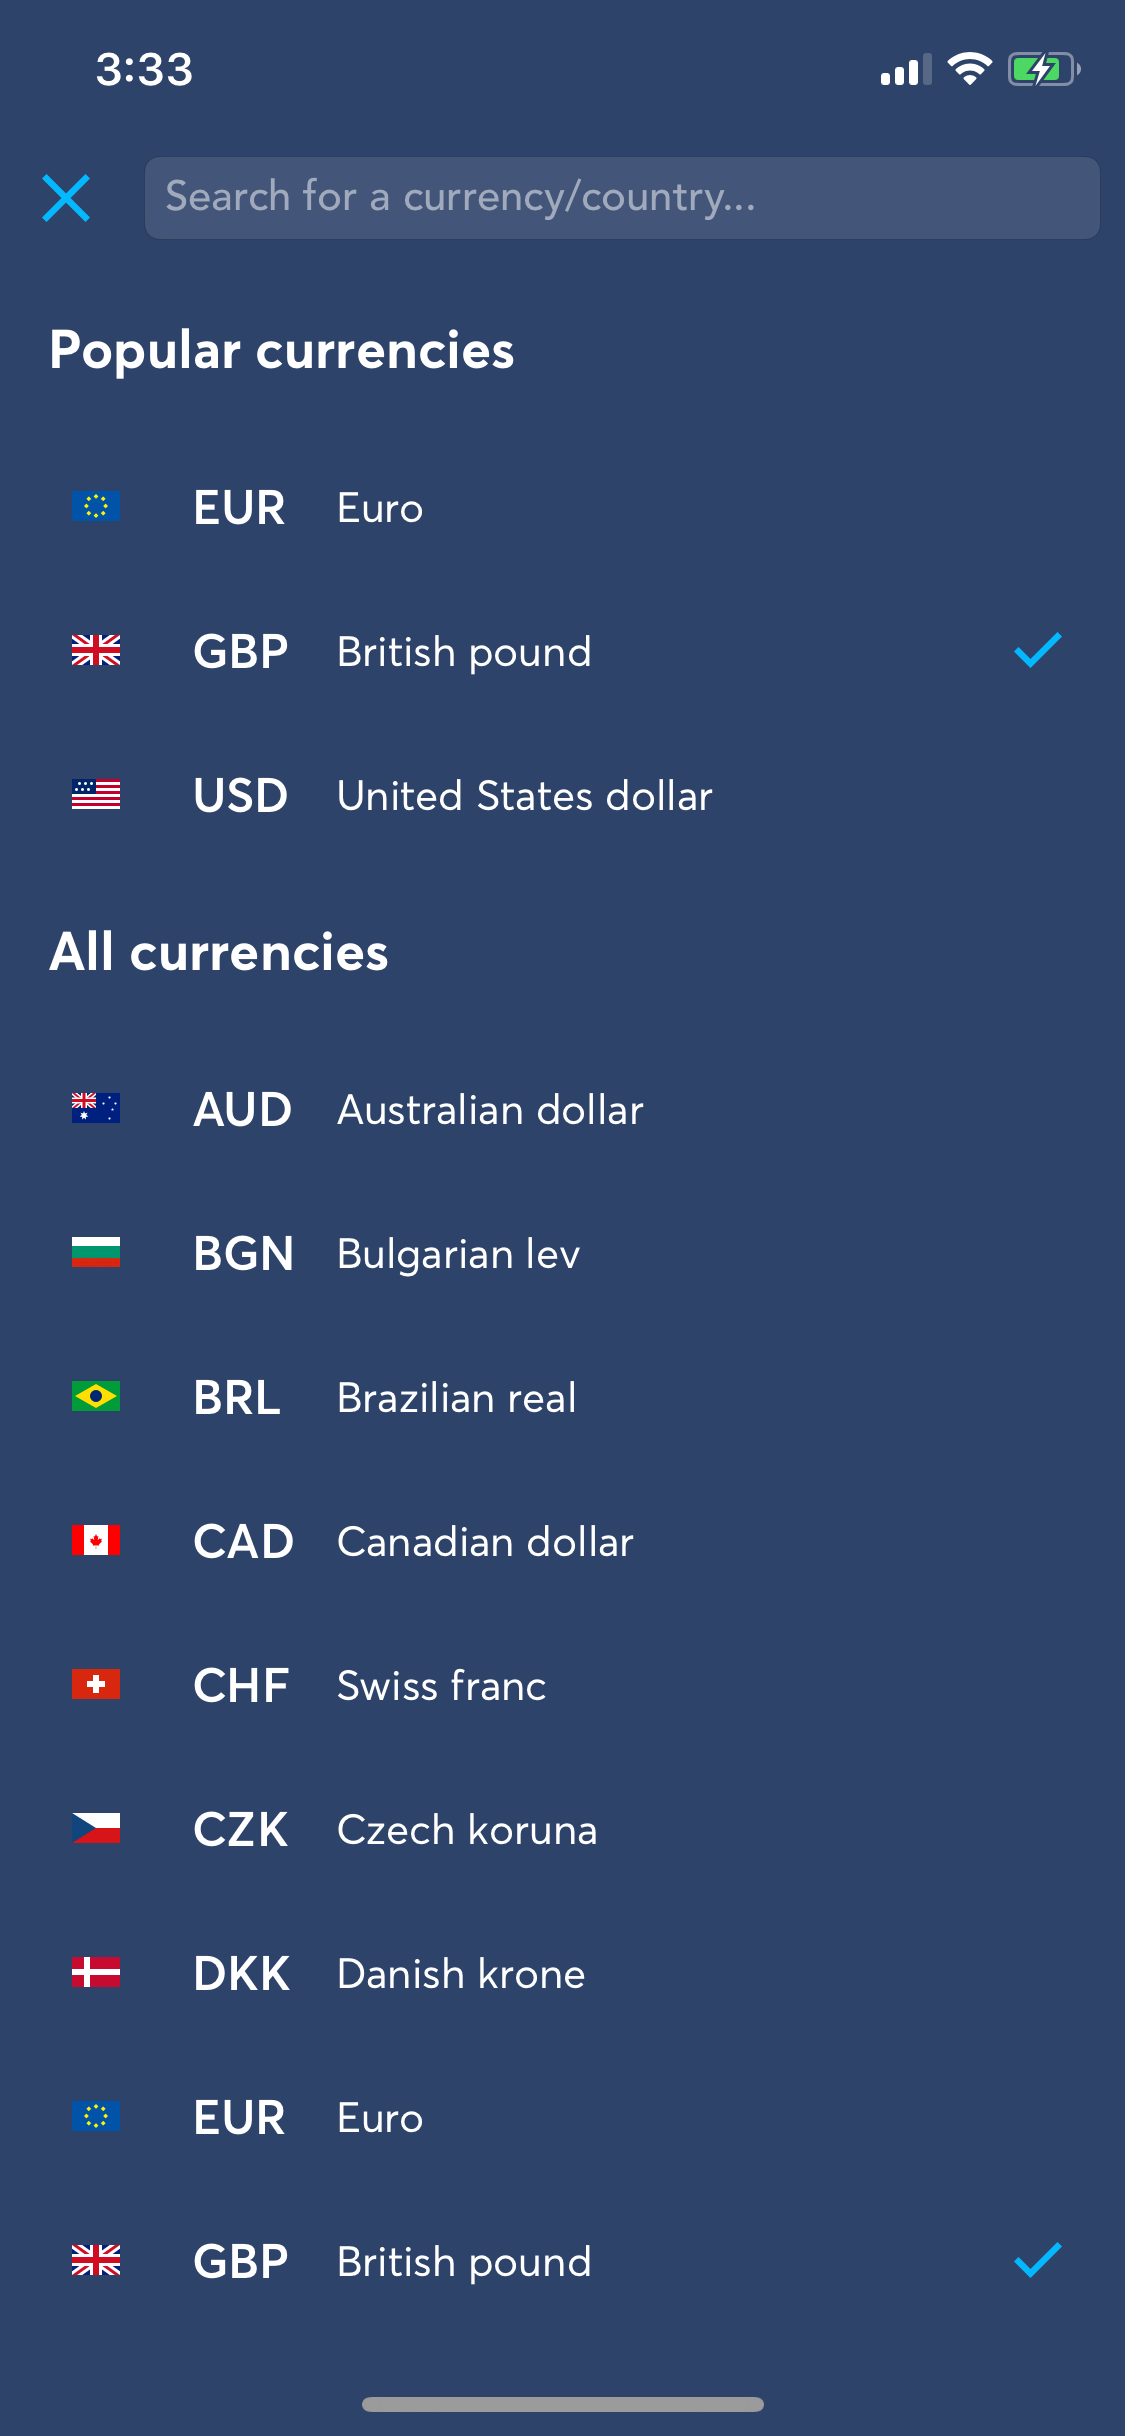Buttons: (5, 144, 137, 258)
Radio buttons: (36, 579, 1088, 705), (34, 2198, 1086, 2316)
